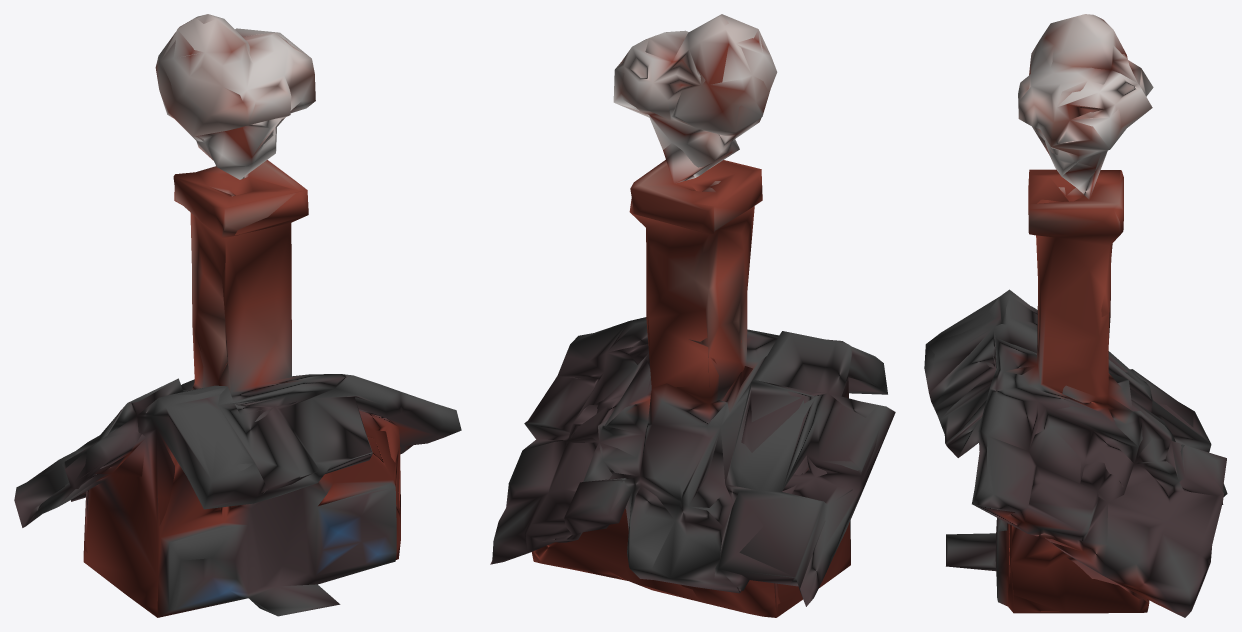
File: gen3d-chimney-lod0.glb
3 renders of one model, left to right at view 1: azimuth 30°, elevation 25°; view 2: azimuth 150°, elevation 25°; view 3: azimuth 270°, elevation 25°, orthographic. The views are drawn at different scales.
Visible parts, largest first — view 1: part_0; view 2: part_0; view 3: part_0.
Boxes of the visible parts, <box> form: part_0: <box>14,14,461,617</box>; part_0: <box>490,14,895,617</box>; part_0: <box>924,14,1227,617</box>.
Size of the model in its own units: 0.6364 by 0.9976 by 0.5184.
